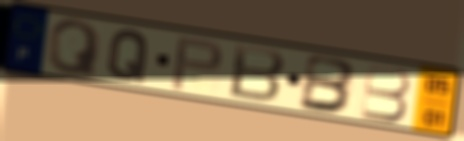B: (296, 52, 360, 116), (226, 42, 289, 105), (359, 62, 413, 124)
P: (168, 35, 226, 93)
Q: (45, 18, 104, 79), (104, 28, 153, 85)
